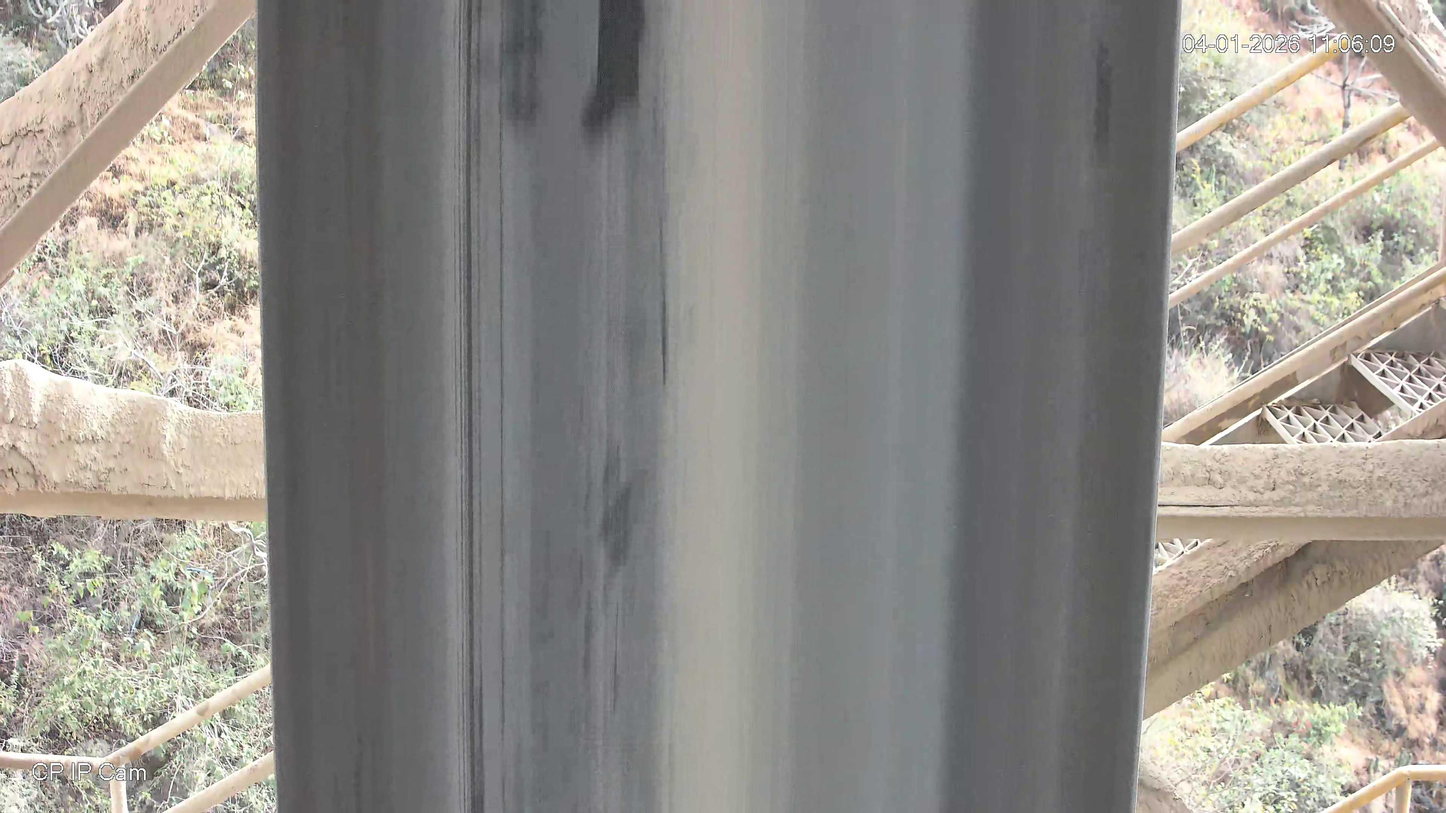belt_roi: (253, 0, 1181, 813)
